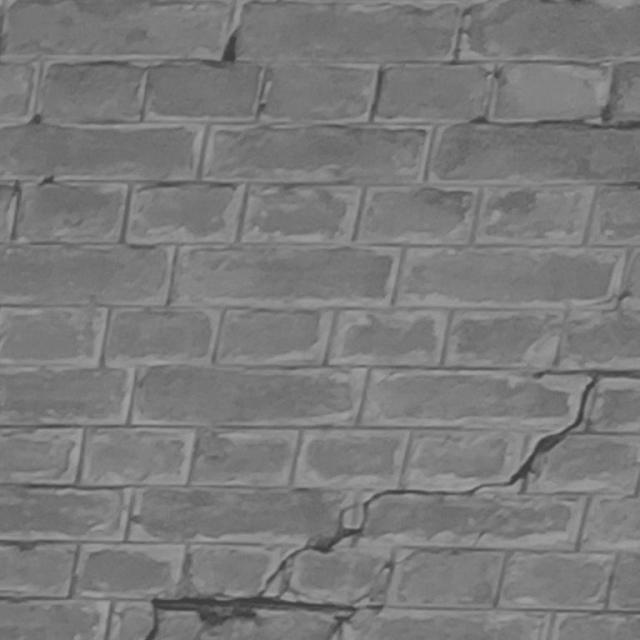crack: (147, 369, 639, 640)
